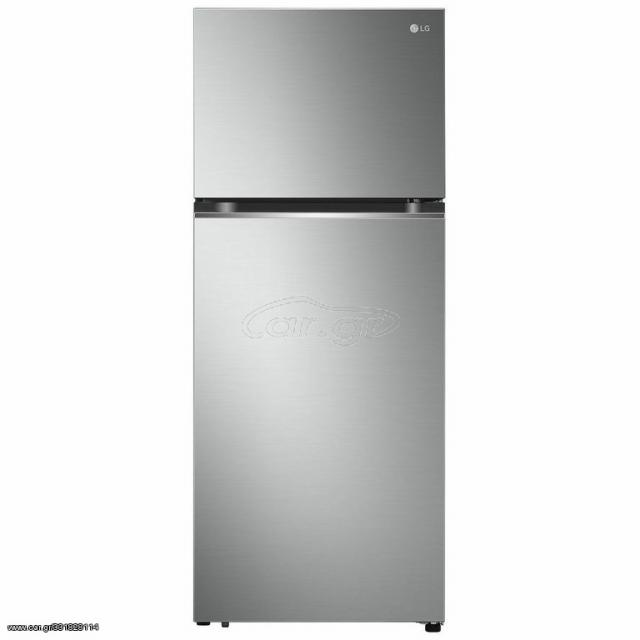refrigerator: (193, 5, 446, 626)
